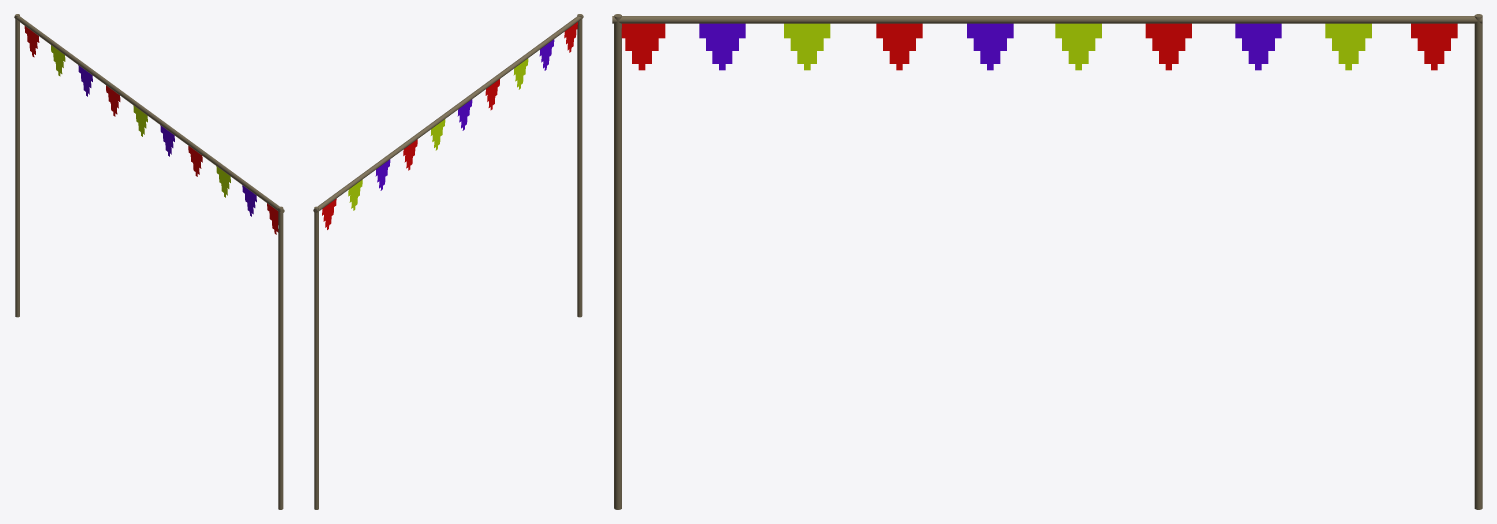
Rendered from stageDecor.fbx.
3 views of the same model, side by side, from view 1: azimuth 30°, elevation 25°; view 2: azimuth 150°, elevation 25°; view 3: azimuth 270°, elevation 25° (orthographic). The views are drawn at different scales.
Visible parts, largest first — view 1: stageDecorComb; view 2: stageDecorComb; view 3: stageDecorComb.
Boxes of the visible parts, x1=… form: stageDecorComb: x1=14, y1=14, x2=284, y2=509; stageDecorComb: x1=313, y1=14, x2=583, y2=509; stageDecorComb: x1=612, y1=14, x2=1482, y2=509.
Bounding box in the file's own units: 0.0453 × 3.08 × 4.93.
